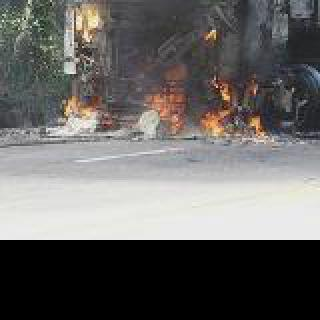fire: (136, 62, 184, 130), (52, 92, 104, 118), (198, 108, 228, 136), (210, 78, 230, 102), (248, 114, 266, 140)
